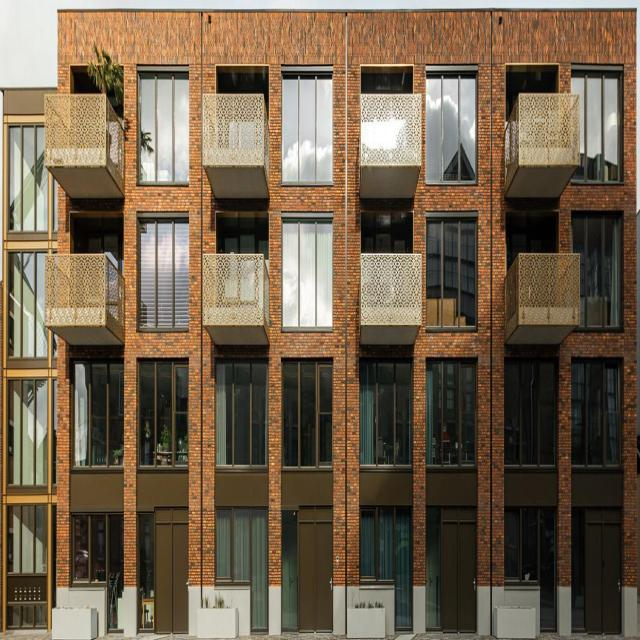door: (586, 510, 622, 636), (155, 521, 190, 639), (298, 514, 333, 631), (444, 516, 477, 636)
railing: (505, 91, 581, 203), (45, 92, 125, 196), (44, 250, 125, 342), (504, 251, 580, 348), (203, 93, 269, 194), (202, 253, 270, 344), (361, 255, 422, 325), (362, 95, 422, 164)
window: (9, 124, 58, 620), (213, 508, 268, 634), (359, 506, 413, 631), (504, 505, 556, 631), (73, 510, 124, 631), (281, 71, 332, 185), (281, 220, 332, 334), (138, 359, 189, 473), (571, 68, 622, 182), (281, 361, 332, 474), (215, 360, 268, 468), (359, 360, 412, 468), (73, 362, 126, 470), (139, 70, 189, 184), (427, 67, 477, 181), (427, 216, 477, 330), (139, 219, 189, 333), (427, 357, 477, 470), (504, 360, 557, 466), (571, 360, 624, 466), (571, 213, 623, 319), (280, 507, 298, 638), (280, 507, 298, 638), (425, 505, 442, 635), (138, 517, 154, 638), (572, 509, 584, 639)
